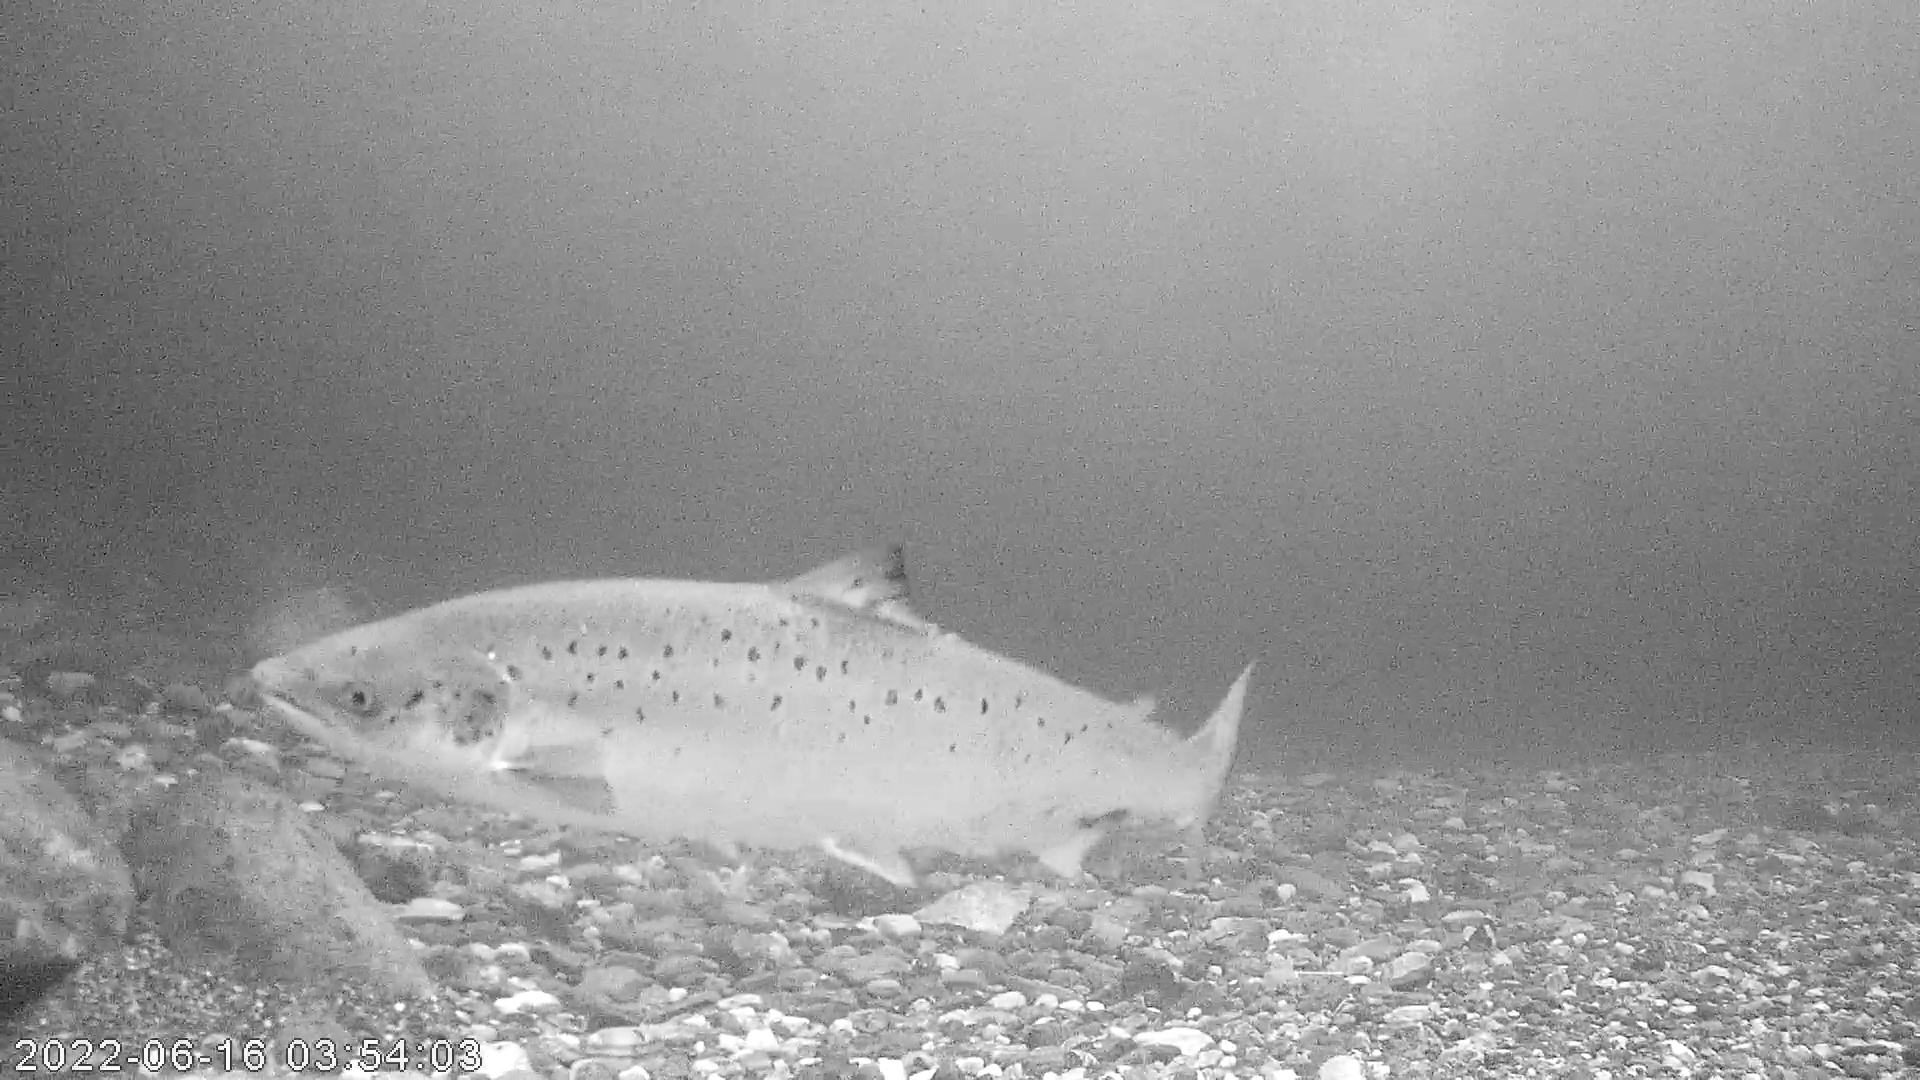salmon: (248, 538, 1261, 891)
